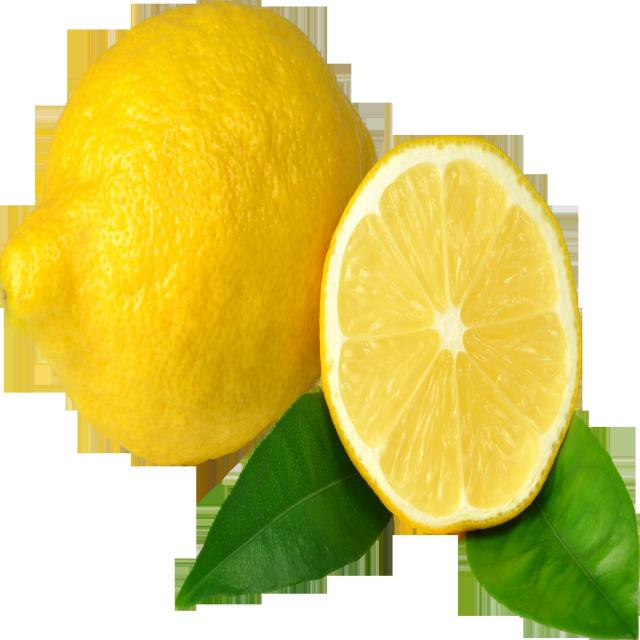lemon: (0, 2, 379, 460), (320, 133, 582, 534)
